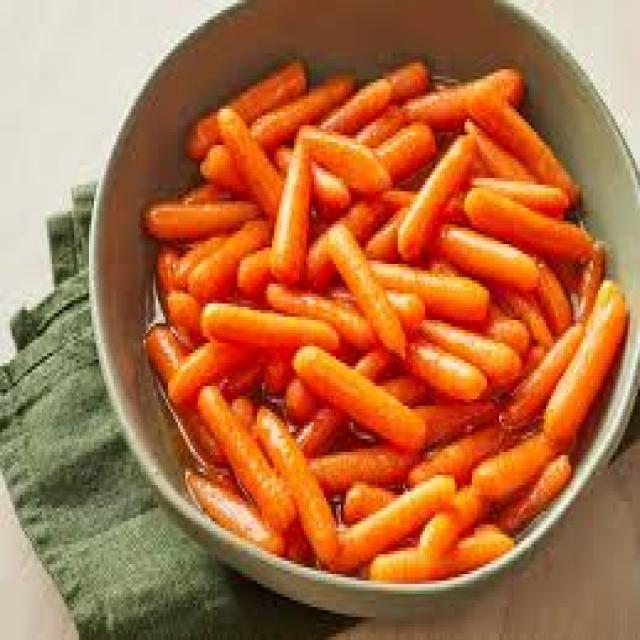Carrot: (250, 399, 347, 571), (532, 276, 626, 442), (198, 390, 293, 535), (298, 348, 425, 454), (180, 62, 316, 160), (467, 101, 585, 207), (327, 470, 464, 561), (390, 125, 478, 254), (463, 192, 610, 266), (329, 235, 410, 363), (196, 297, 347, 359), (347, 260, 495, 319), (419, 210, 534, 279), (300, 121, 391, 202), (264, 135, 314, 281), (380, 69, 527, 118), (417, 314, 512, 382), (140, 192, 270, 236), (402, 337, 480, 404)
